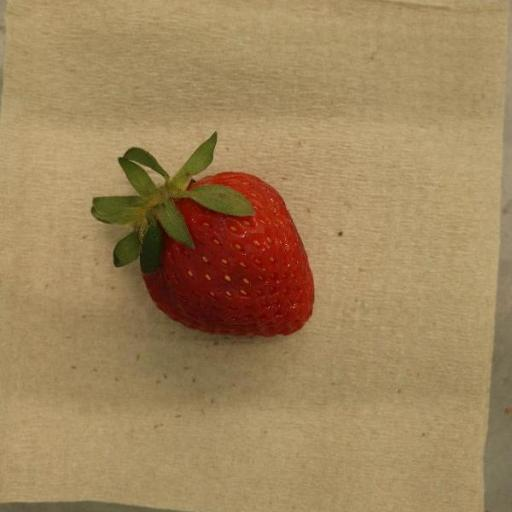Strawberry: (90, 133, 315, 337)
